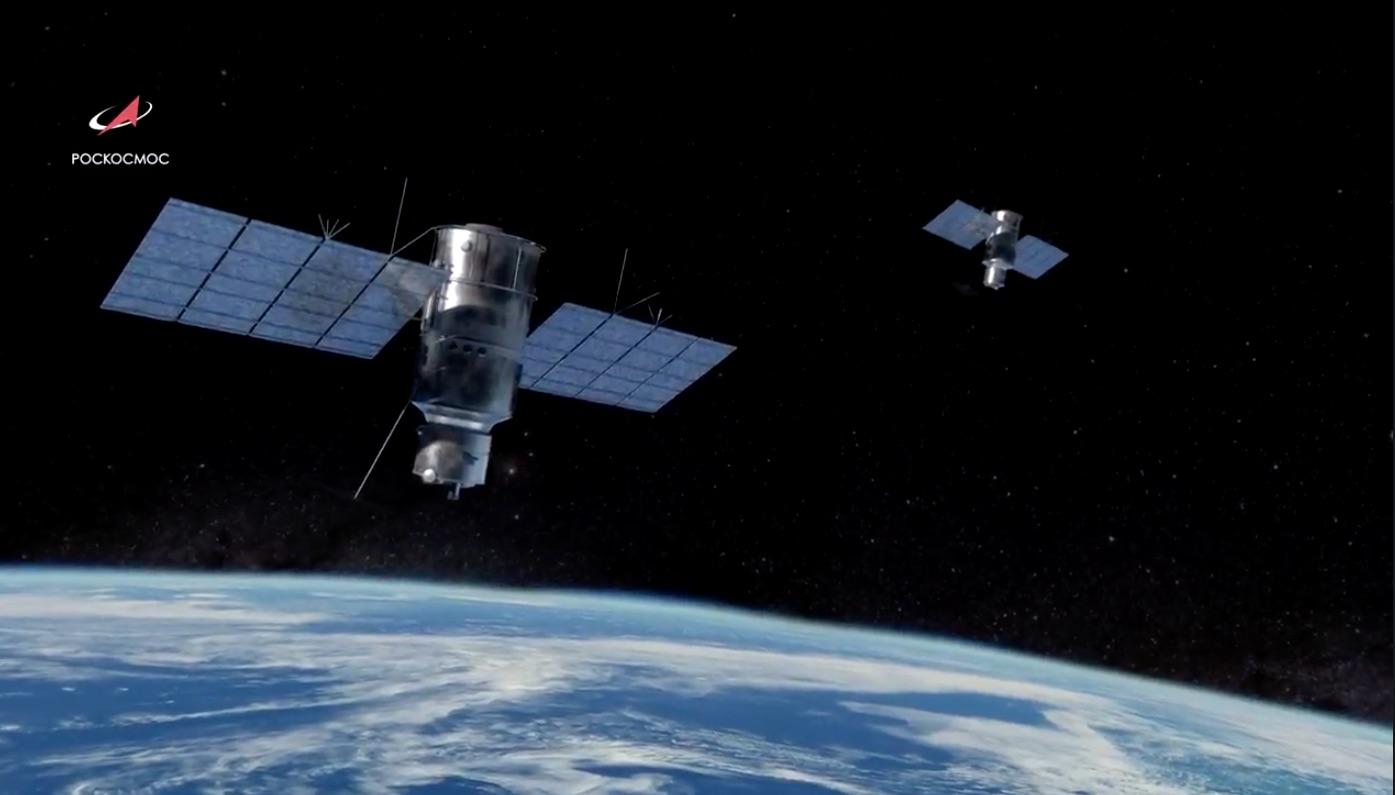antenna: (351, 396, 411, 502)
body: (405, 217, 552, 502), (979, 206, 1026, 291)
solar: (96, 193, 454, 363), (512, 300, 740, 417), (921, 197, 1003, 252), (1001, 231, 1071, 281)
